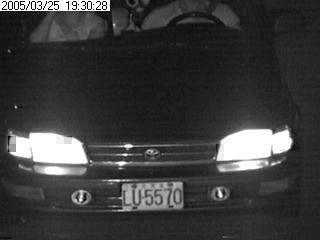plate: (120, 179, 186, 212)
